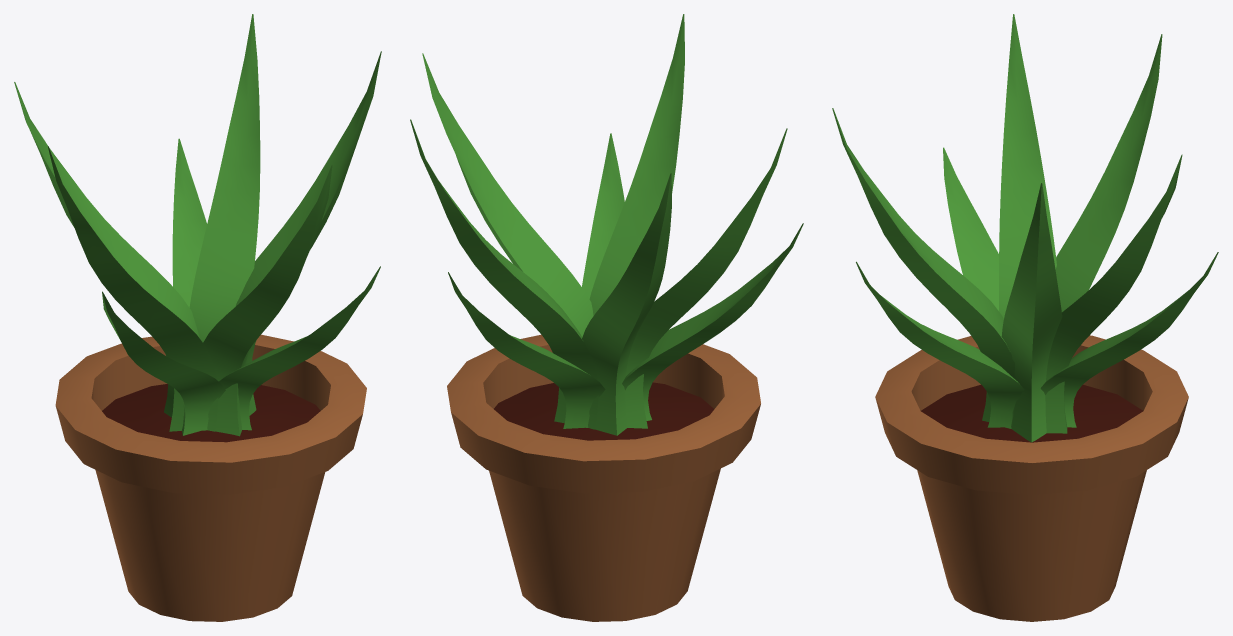
The model's file is planta.fbx.
The picture shows the model from 3 angles, left to right: view 1: azimuth 30°, elevation 25°; view 2: azimuth 150°, elevation 25°; view 3: azimuth 270°, elevation 25°; orthographic projection.
Visible parts, largest first — view 1: NurbsPath.007; view 2: NurbsPath.007; view 3: NurbsPath.007.
Part boxes in pixels (box(x1,y1,x2,y2)): NurbsPath.007: box(14, 14, 381, 621); NurbsPath.007: box(410, 14, 803, 621); NurbsPath.007: box(832, 14, 1218, 621).
Bounding box in the file's own units: 374 × 503 × 360.
